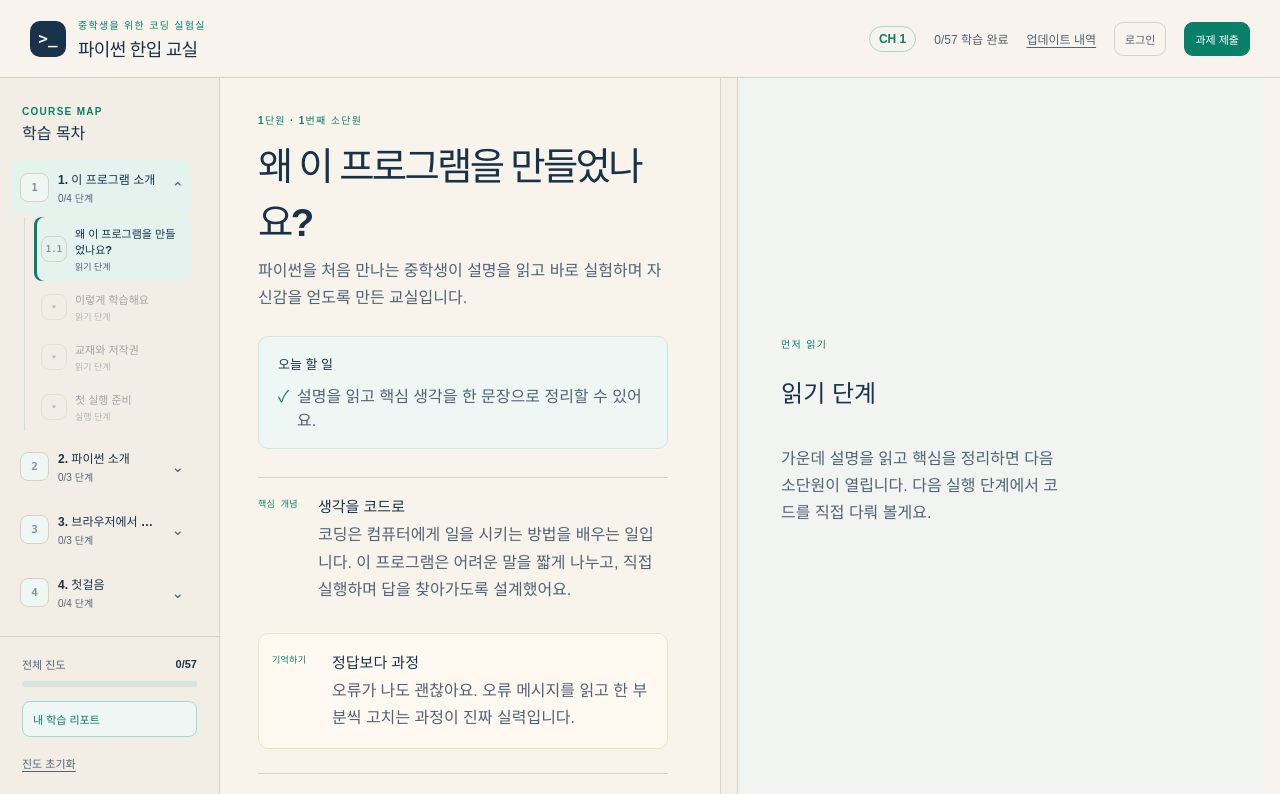
Test case: App profile and submission boundary › keeps profile and learning entry local without Firebase auth, commit, or fetch
Click the button "로그인": (1140, 38) [1114, 22, 1166, 56]
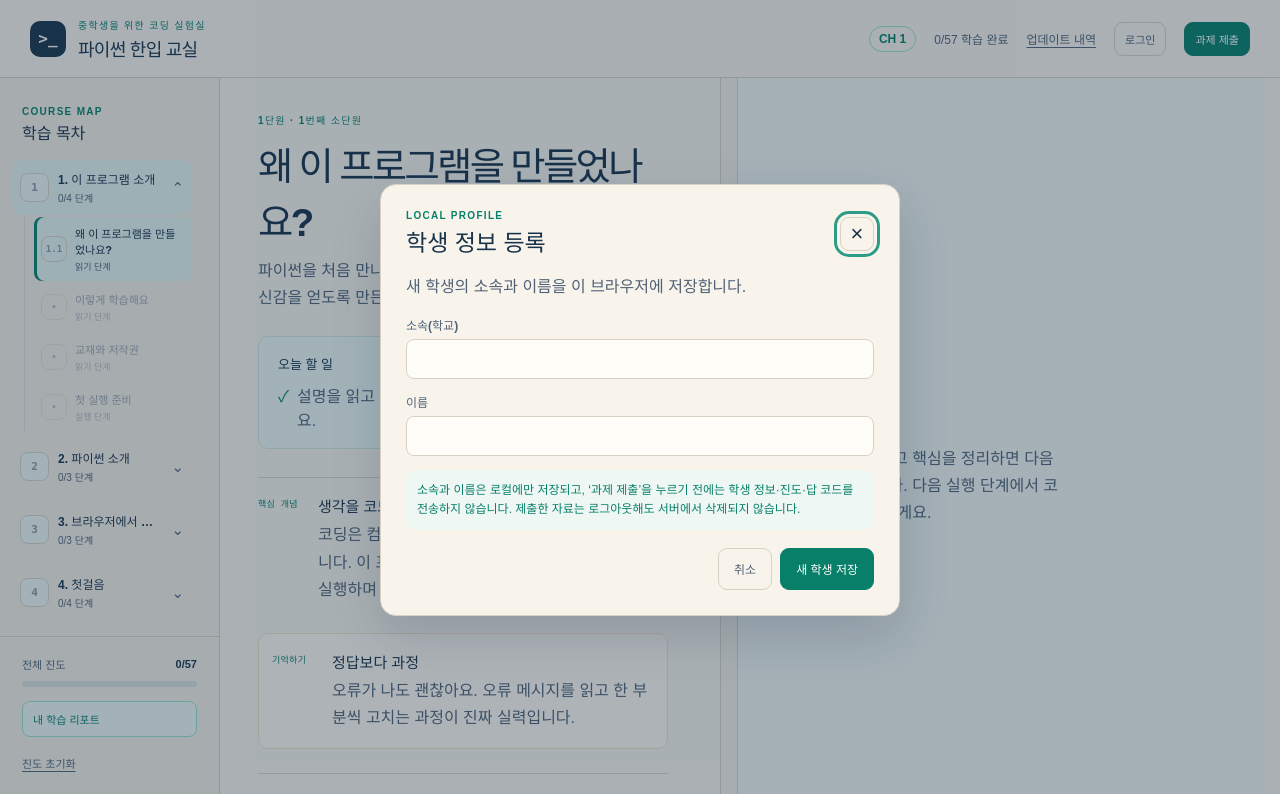
In the field labelled "소속(학교)": (640, 359) [406, 339, 874, 379], type "로컬 학교"
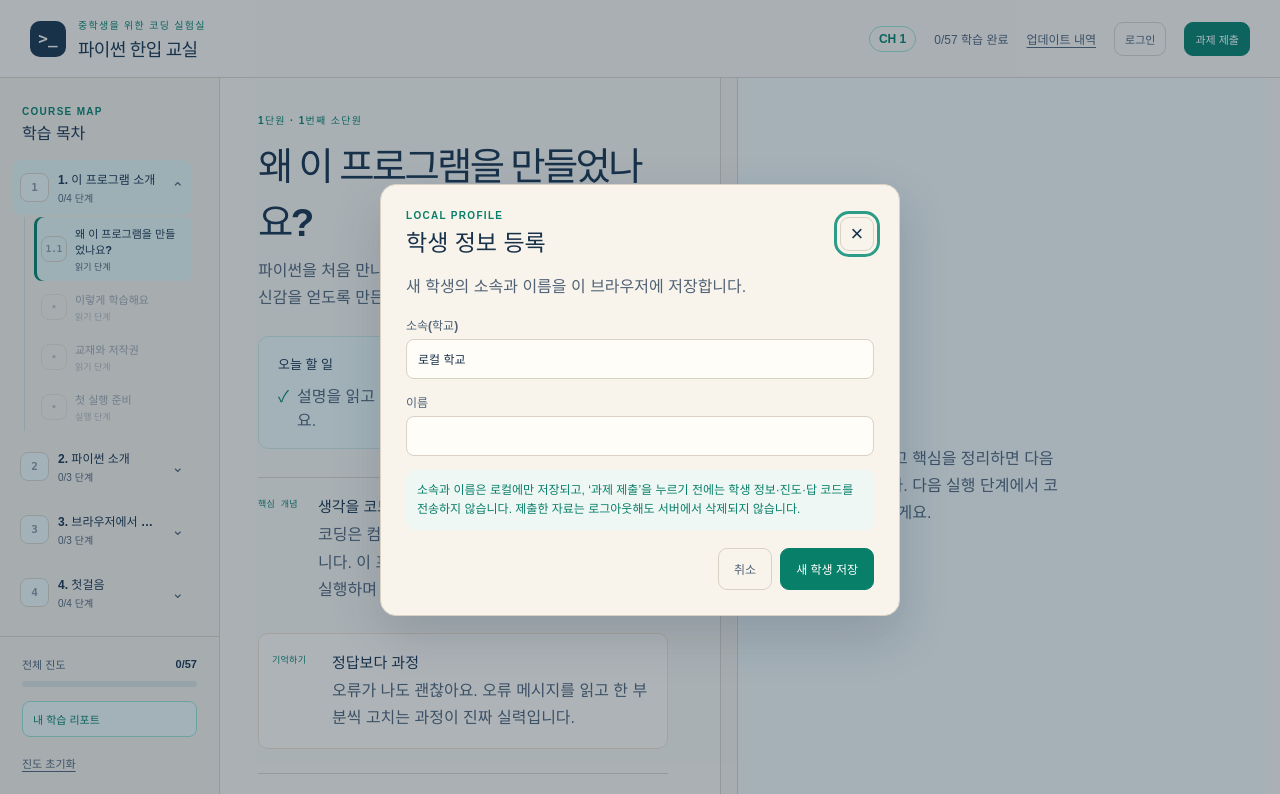
In the field labelled "이름": (640, 436) [406, 416, 874, 456], type "로컬 학생"
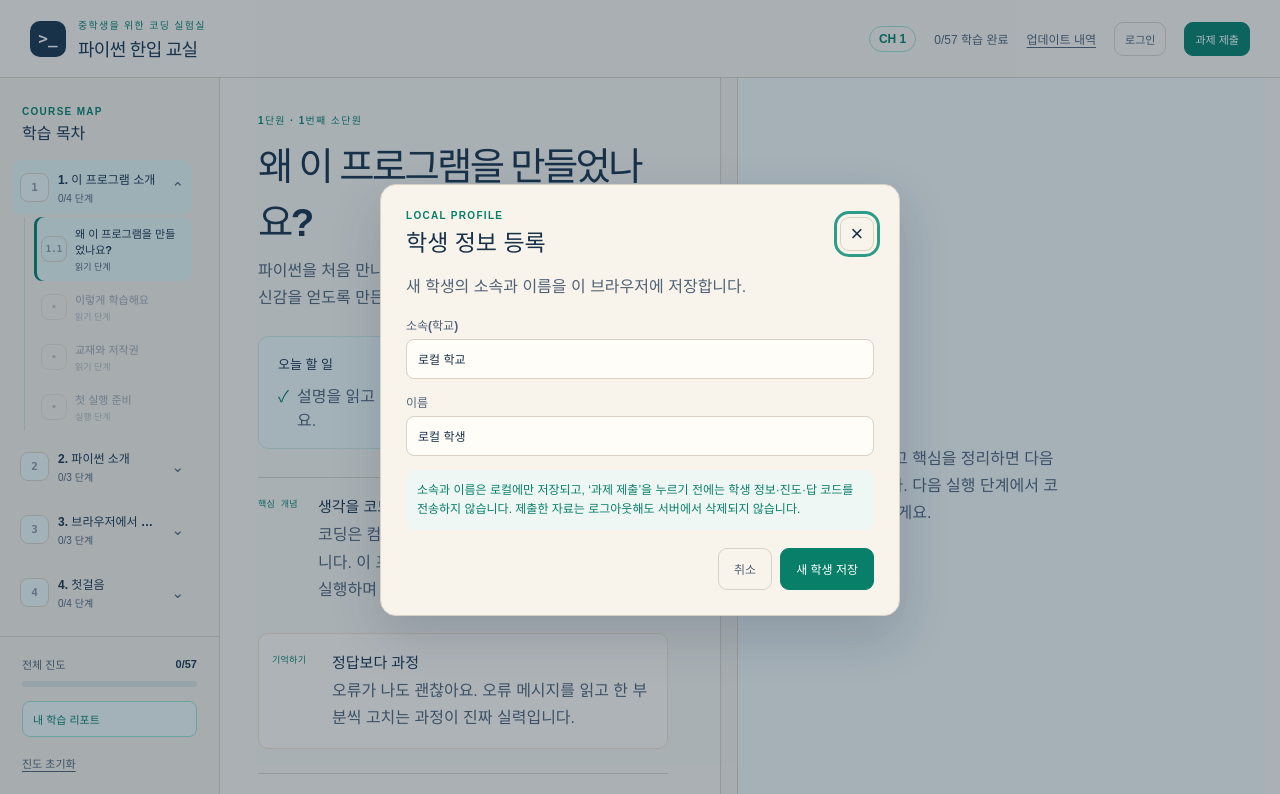
Click the button "새 학생 저장": (827, 569) [780, 548, 874, 590]
(page scrolled)
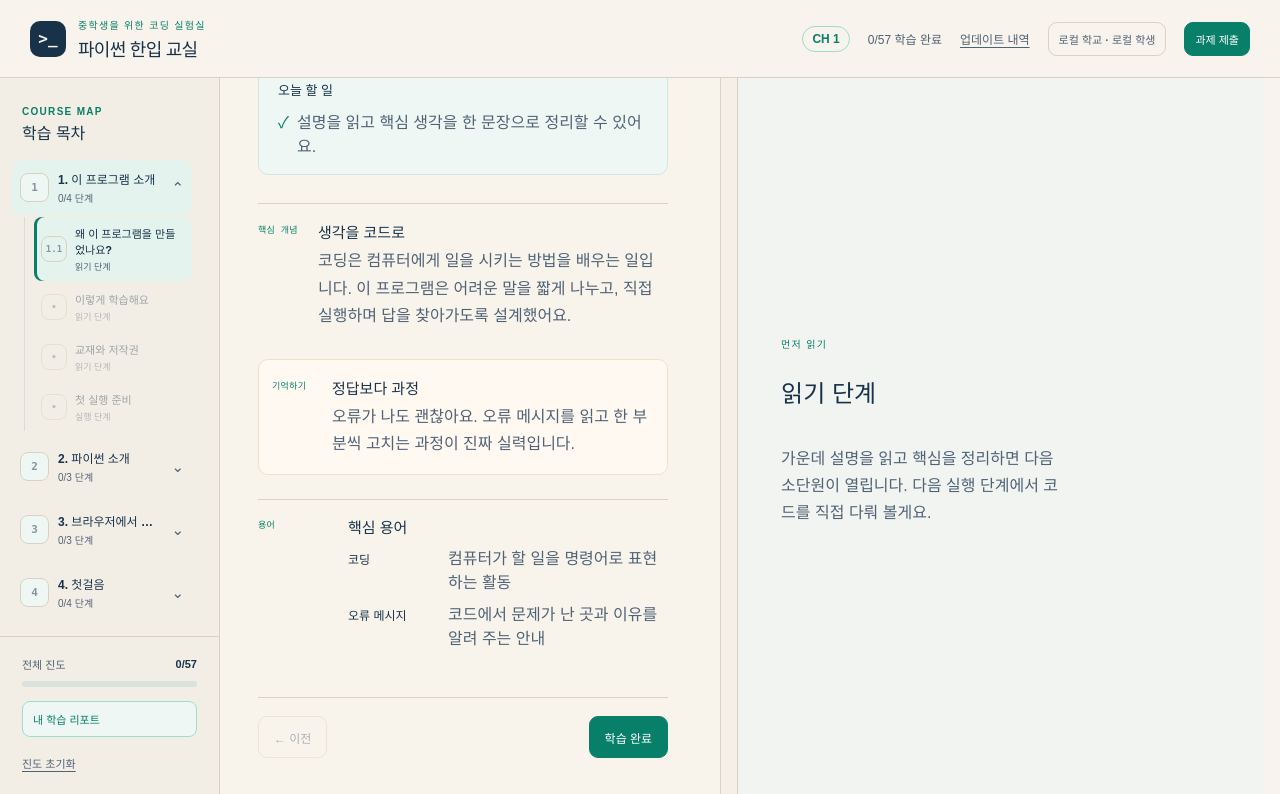
Click the button "학습 완료": (628, 737) [589, 716, 668, 758]
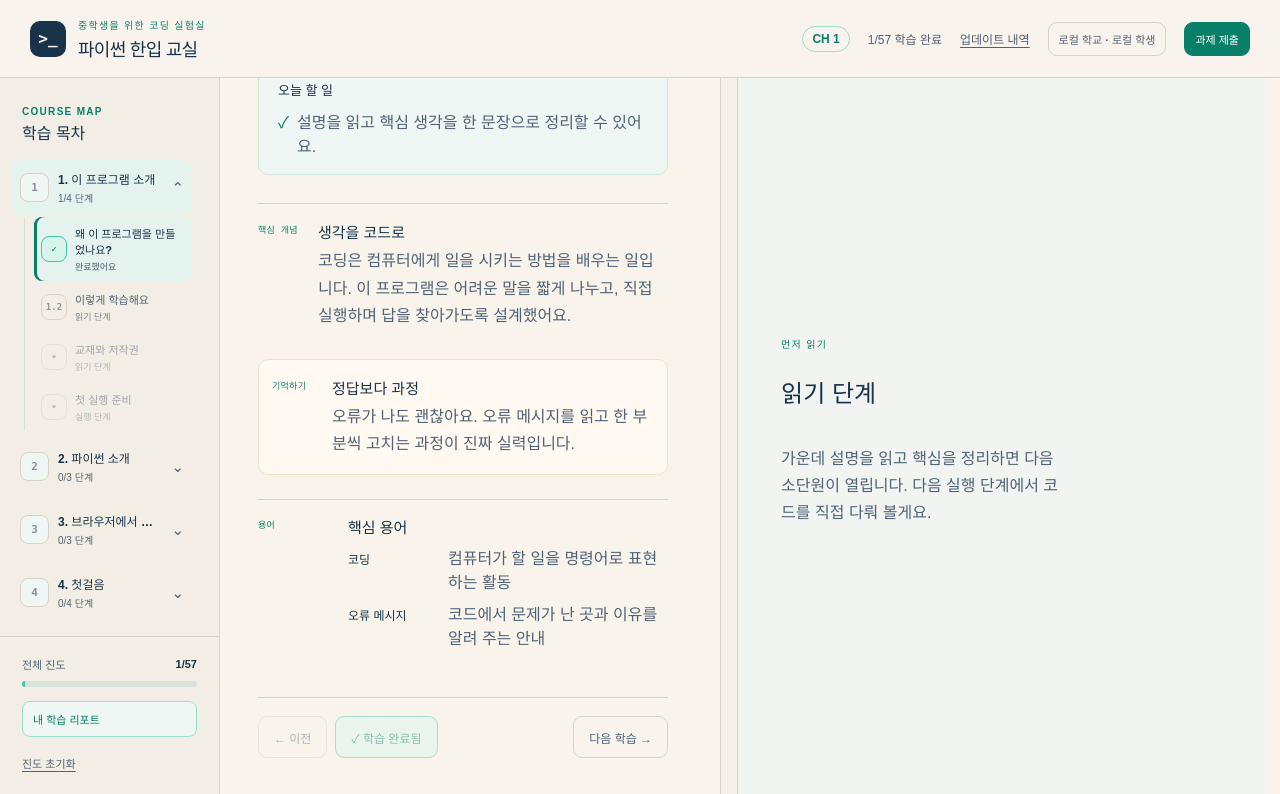
Click the button "다음 학습 →": (621, 737) [573, 716, 668, 758]
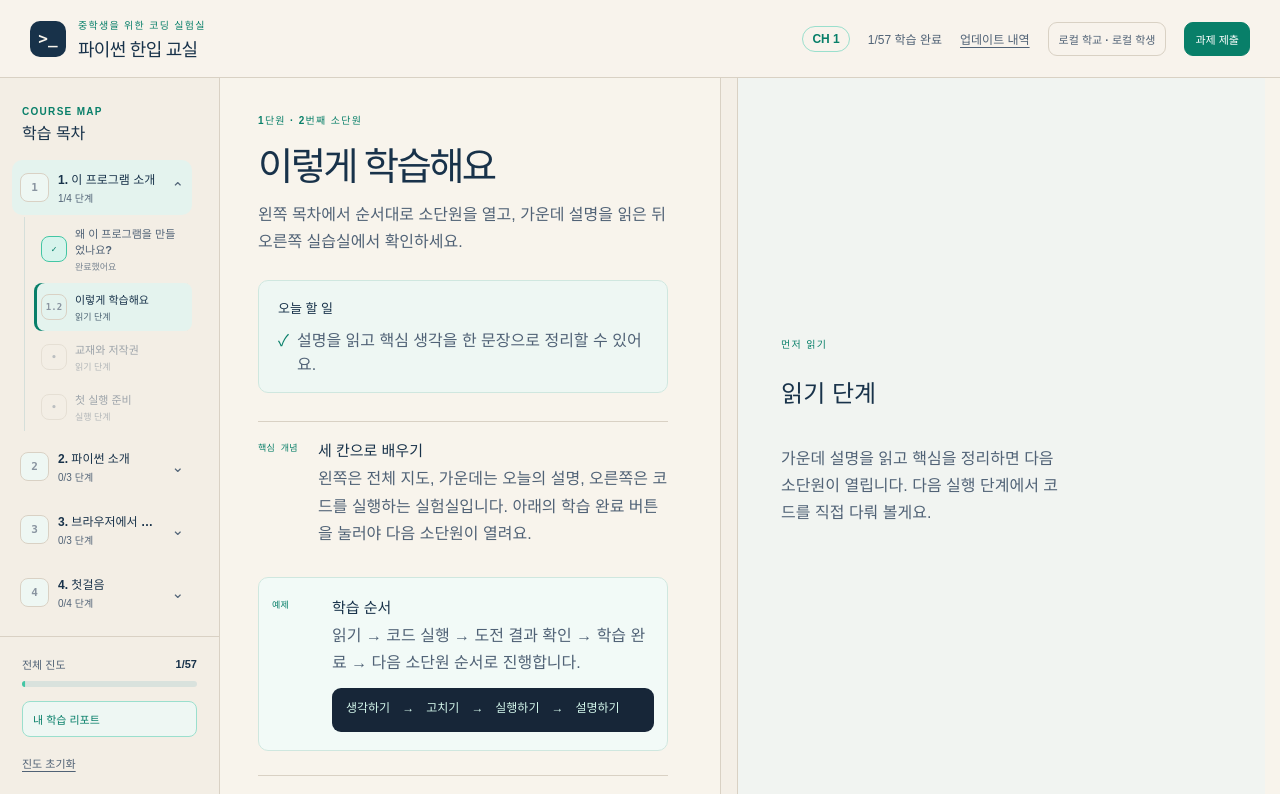
Check: the heading "이렇게 학습해요" is shown, box [258, 145, 494, 188]
